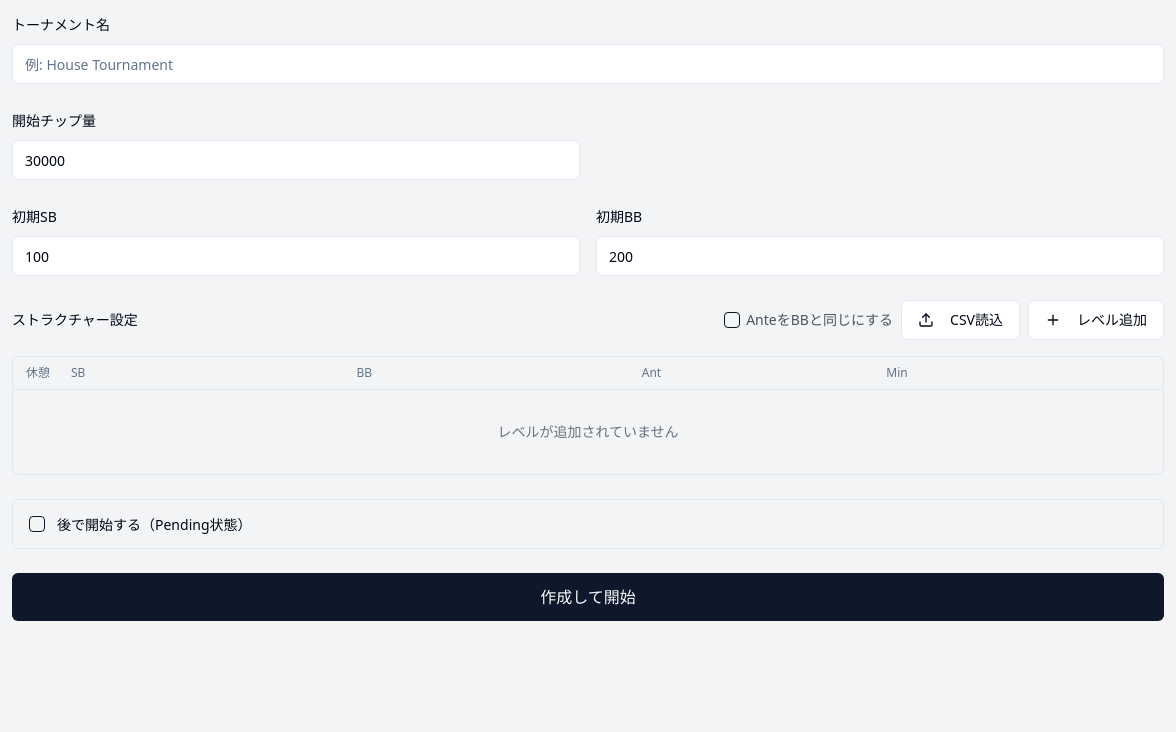
Test: TournamentForm › shows validation error for empty name
Click the button "作成して開始". click: (588, 596)
box: left=12, top=572, right=1164, bottom=620
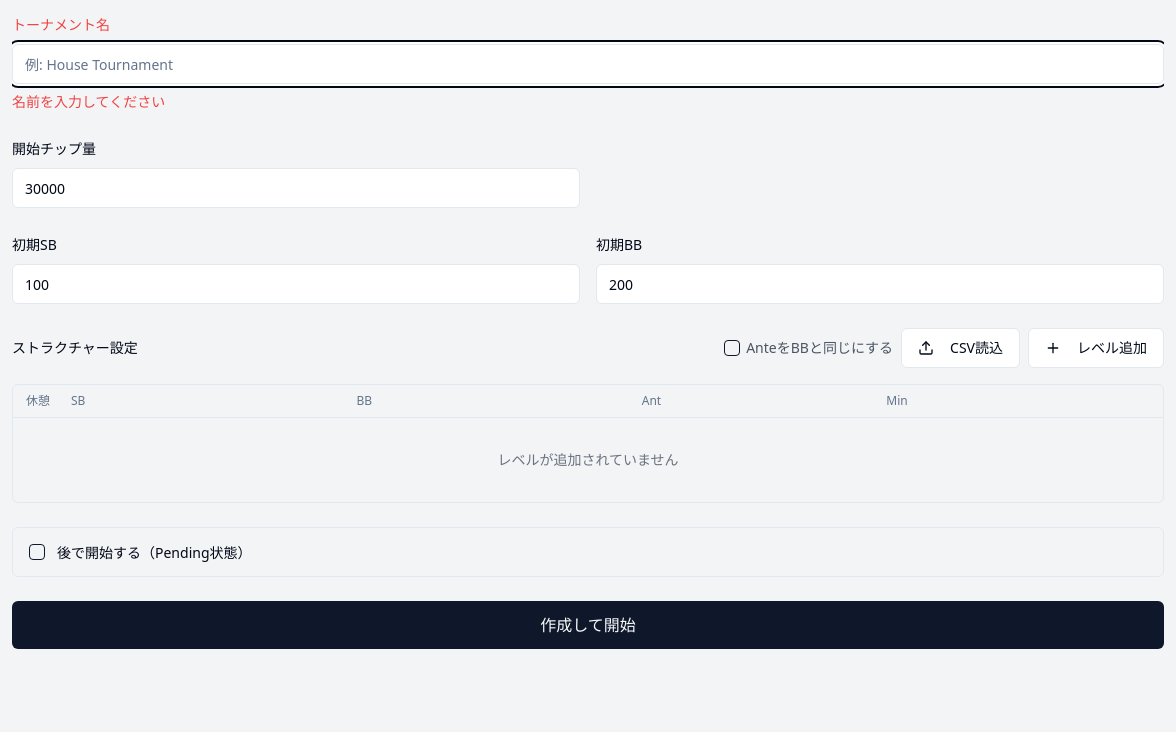
Expected: the text "名前を入力してください" is shown, left=12, top=92, right=165, bottom=111
